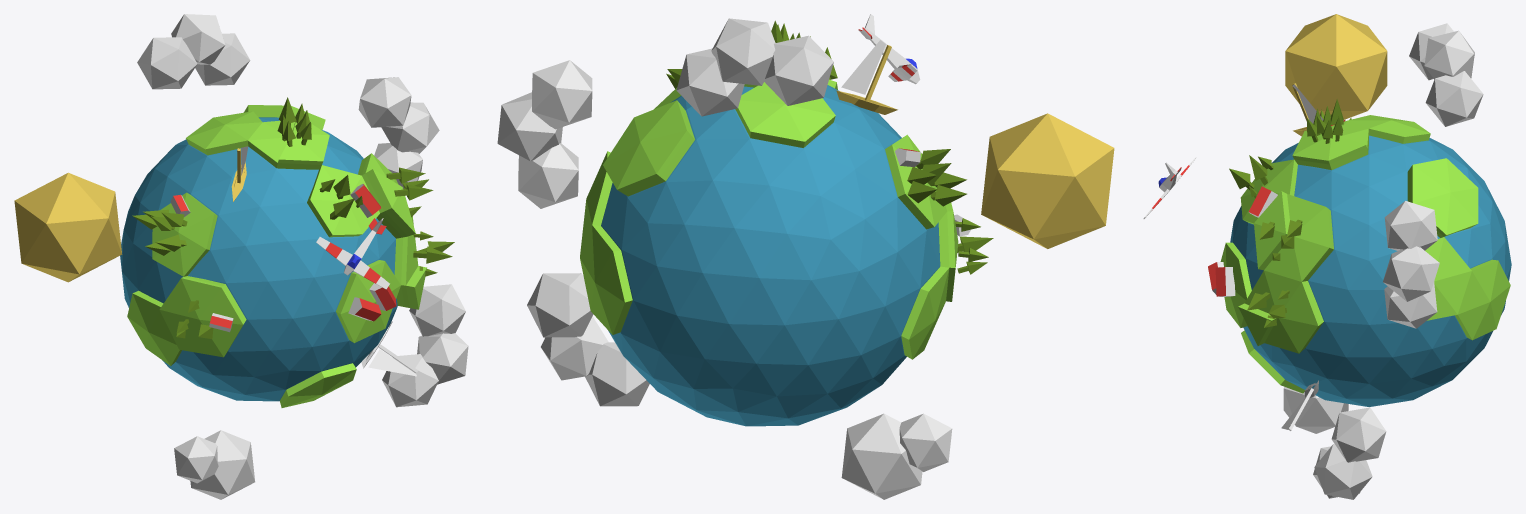
The model's file is planet.glb.
The picture shows the model from 3 angles, left to right: view 1: azimuth 30°, elevation 25°; view 2: azimuth 150°, elevation 25°; view 3: azimuth 270°, elevation 25°; orthographic projection. The views are drawn at different scales.
Visible parts, largest first — view 1: Icosphere.001, Icosphere, Icosphere.013, Icosphere.010, Icosphere.009, Icosphere.011, Icosphere.012, Icosphere.006, Icosphere.003, Plane, Icosphere.007, Icosphere.008 (+2 smaller); view 2: Icosphere.001, Icosphere, Icosphere.013, Icosphere.009, Icosphere.011, Icosphere.010, Icosphere.012, Icosphere.007, Icosphere.004, Icosphere.006, Plane; view 3: Icosphere.001, Icosphere, Icosphere.013, Icosphere.011, Icosphere.009, Icosphere.010, Icosphere.006, Icosphere.012, Icosphere.003, Icosphere.005, Plane, Icosphere.004 (+1 smaller).
Boxes of the visible parts, bbox=[...] form: Icosphere.001: bbox=[120, 117, 397, 401]; Icosphere: bbox=[127, 105, 426, 407]; Icosphere.013: bbox=[14, 172, 122, 282]; Icosphere.010: bbox=[382, 284, 468, 407]; Icosphere.009: bbox=[137, 14, 250, 89]; Icosphere.011: bbox=[358, 77, 439, 188]; Icosphere.012: bbox=[174, 430, 255, 499]; Icosphere.006: bbox=[176, 167, 454, 338]; Icosphere.003: bbox=[170, 184, 396, 332]; Plane: bbox=[316, 218, 389, 289]; Icosphere.007: bbox=[132, 209, 187, 255]; Icosphere.008: bbox=[361, 321, 417, 376]; Icosphere.001: bbox=[601, 85, 940, 426]; Icosphere: bbox=[580, 79, 958, 359]; Icosphere.013: bbox=[981, 113, 1114, 248]; Icosphere.009: bbox=[676, 18, 833, 116]; Icosphere.011: bbox=[497, 60, 592, 208]; Icosphere.010: bbox=[527, 273, 649, 406]; Icosphere.012: bbox=[841, 413, 952, 499]; Icosphere.007: bbox=[907, 149, 966, 206]; Icosphere.004: bbox=[836, 40, 897, 114]; Icosphere.006: bbox=[666, 36, 993, 274]; Plane: bbox=[858, 14, 920, 84]; Icosphere.001: bbox=[1230, 135, 1511, 406]; Icosphere: bbox=[1220, 115, 1510, 393]; Icosphere.013: bbox=[1285, 14, 1387, 119]; Icosphere.011: bbox=[1383, 201, 1439, 328]; Icosphere.009: bbox=[1409, 23, 1483, 126]; Icosphere.010: bbox=[1313, 407, 1386, 499]; Icosphere.006: bbox=[1229, 155, 1302, 327]; Icosphere.012: bbox=[1283, 387, 1348, 433]; Icosphere.003: bbox=[1208, 120, 1345, 296]; Icosphere.005: bbox=[1307, 106, 1343, 143]; Plane: bbox=[1143, 157, 1196, 218]; Icosphere.004: bbox=[1292, 83, 1323, 136].
Size of the model in its own units: 3.85 by 3.45 by 2.74.
